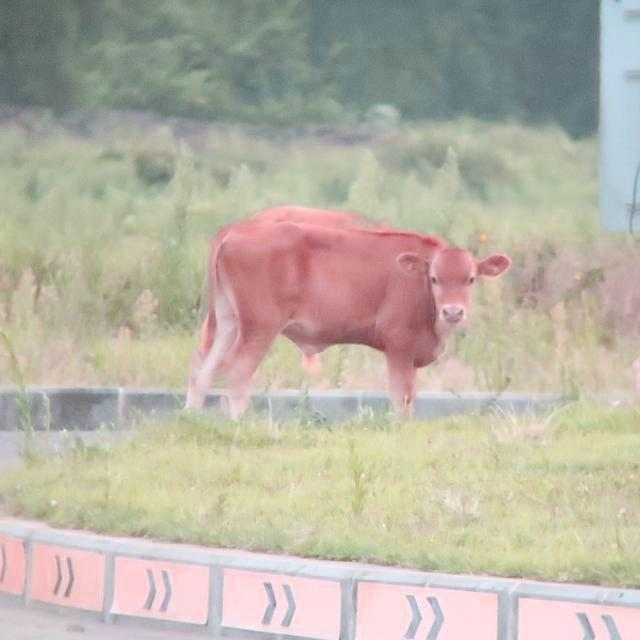cow: (186, 206, 510, 418)
